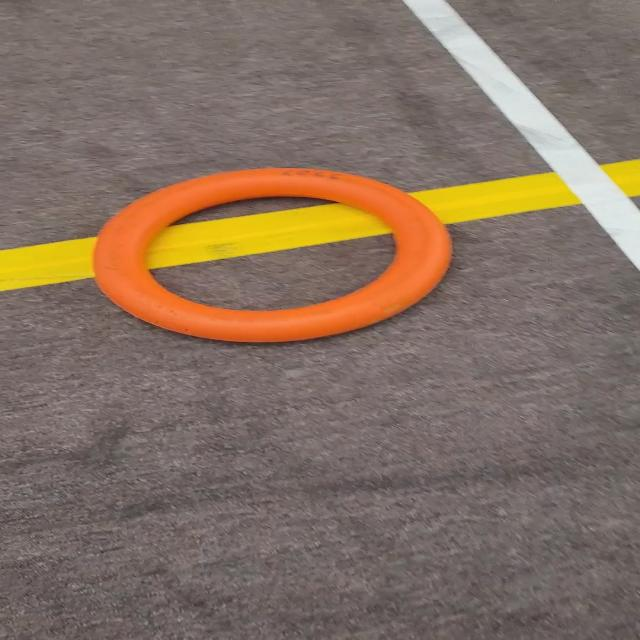note: (61, 157, 490, 356)
